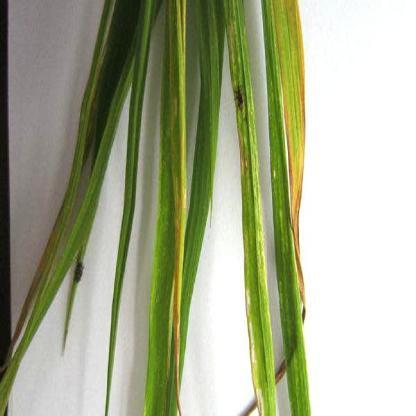rice-bug: (72, 255, 86, 284), (234, 82, 248, 108)
